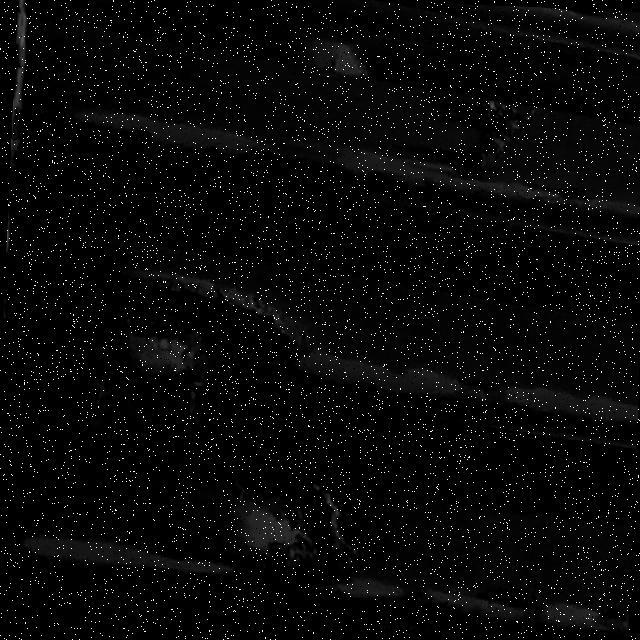rust: (2, 221, 316, 491)
